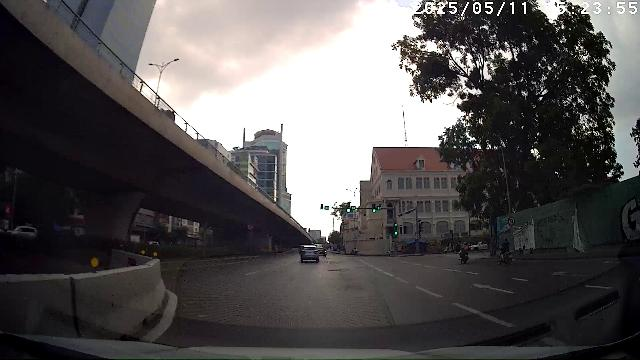124a-cam-quay-dau-xe: (508, 217, 514, 226)
